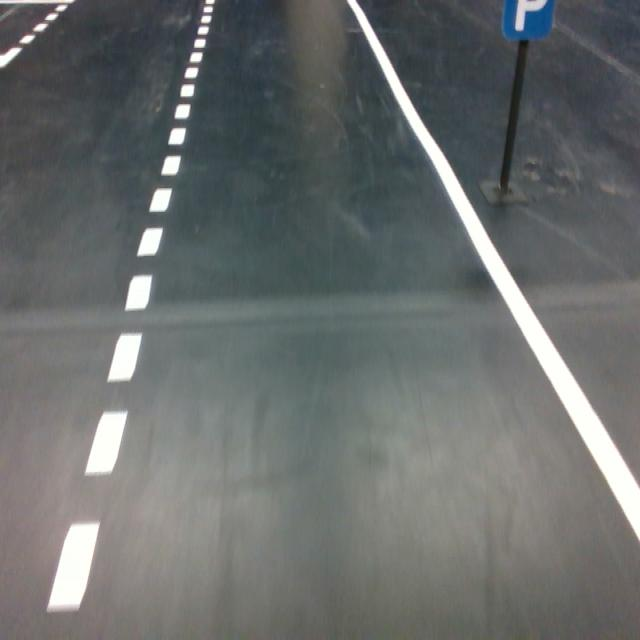parking-sign: (500, 0, 556, 42)
